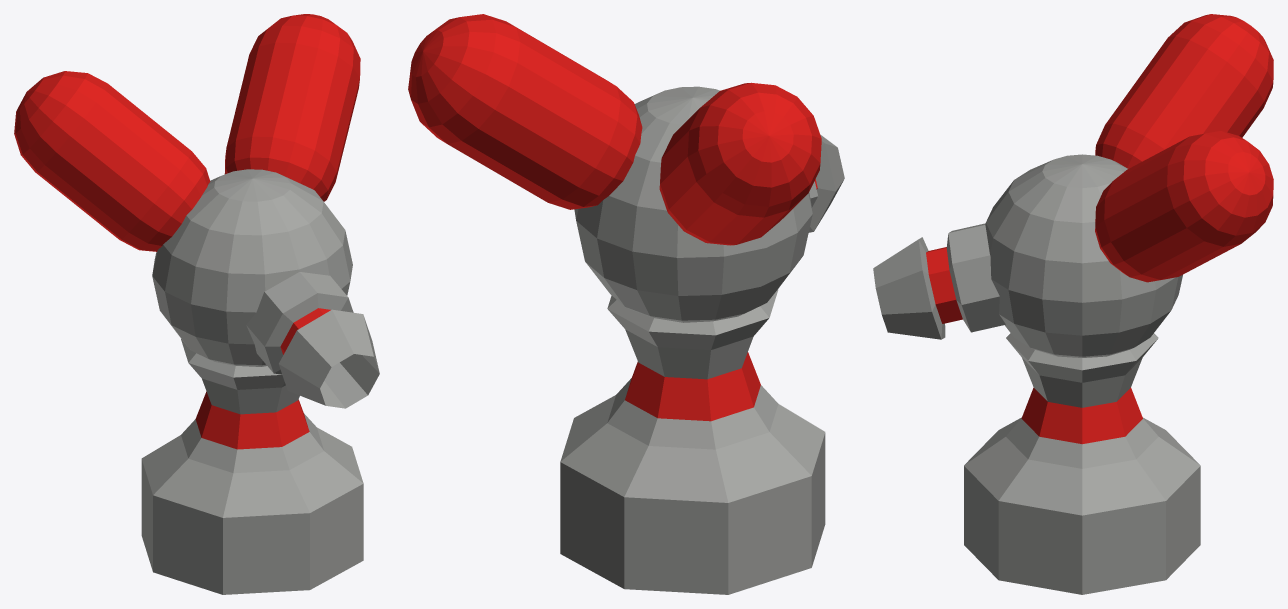
The model's file is Gel_Explosive_Upgraded_Fire.fbx.
3 renders of one model, left to right at view 1: azimuth 30°, elevation 25°; view 2: azimuth 150°, elevation 25°; view 3: azimuth 270°, elevation 25°, orthographic. The views are drawn at different scales.
Parts seen in each view (by area): view 1: Circle; view 2: Circle; view 3: Circle.
Boxes of the visible parts, bbox=[...] form: Circle: bbox=[14, 14, 379, 594]; Circle: bbox=[408, 14, 844, 594]; Circle: bbox=[873, 14, 1273, 594].
Bounding box in the file's own units: 515 × 674 × 524.
Materials: 1 (1 with a texture image).
